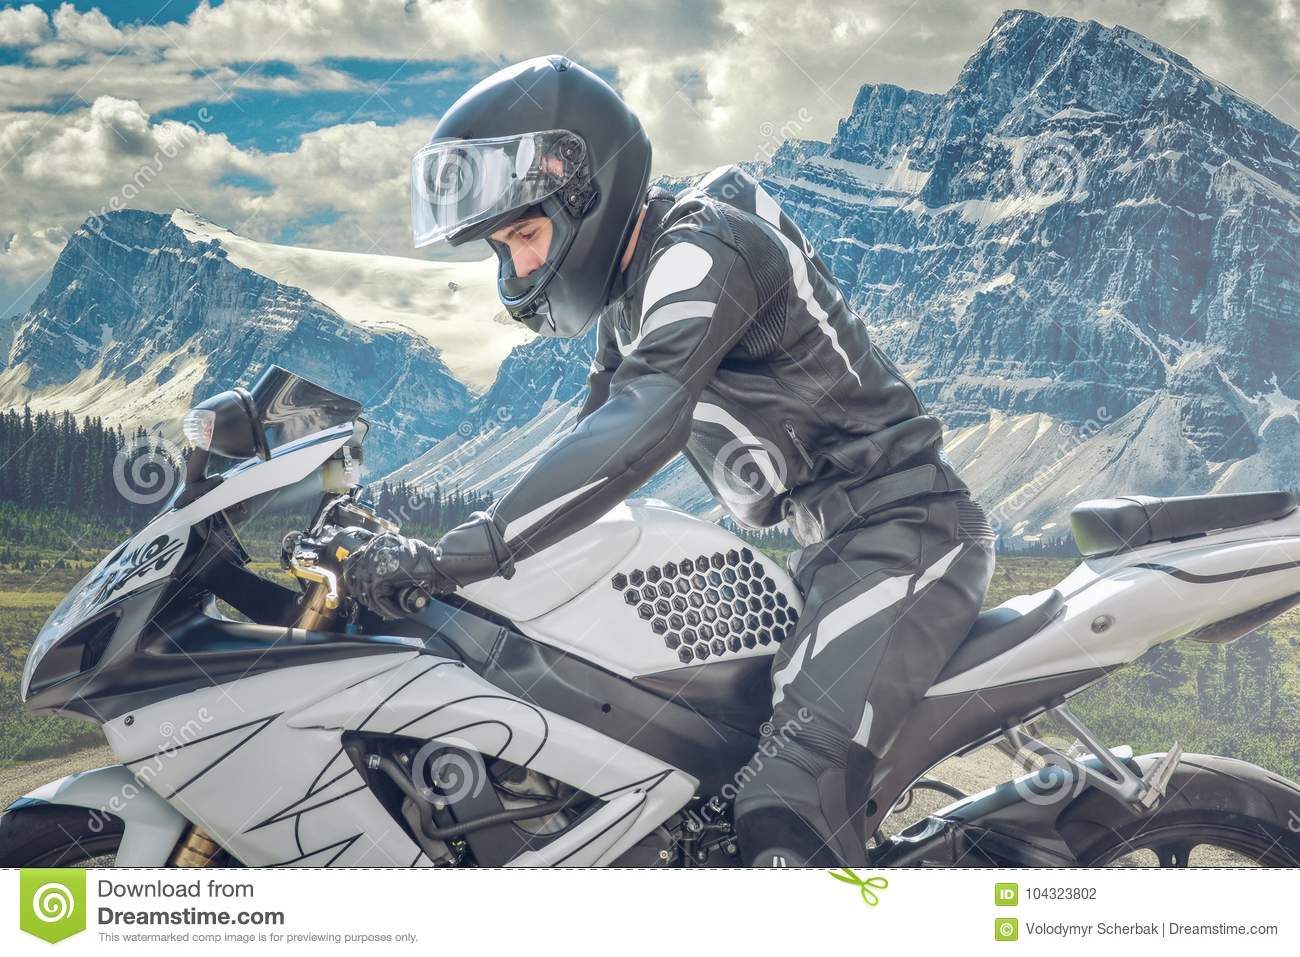helmet: (429, 69, 643, 317)
